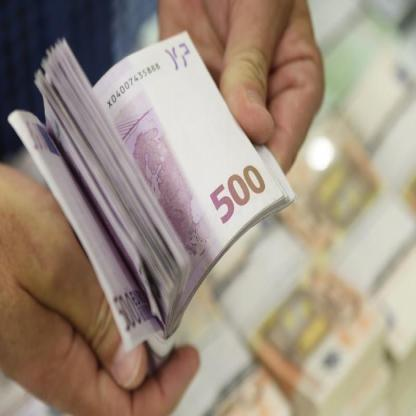billete: (4, 29, 300, 382)
